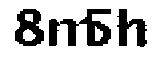6: (87, 3, 114, 50)
8: (10, 4, 44, 49)
h: (117, 5, 151, 51)
m: (47, 15, 90, 56)
